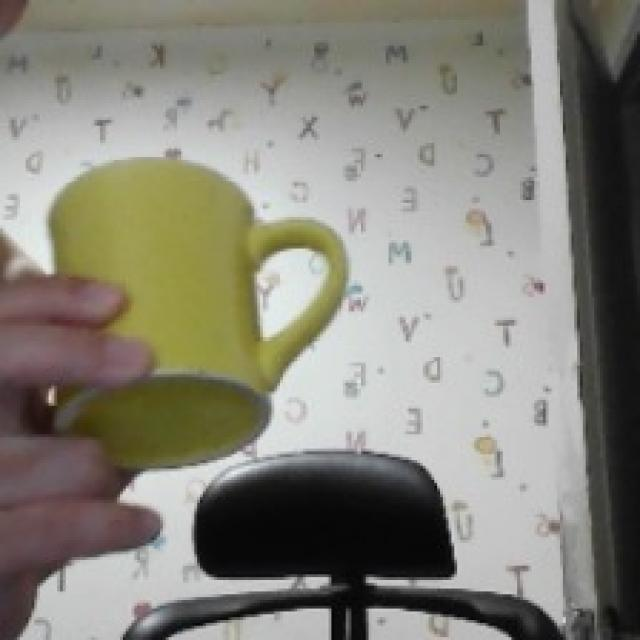cup: (51, 157, 346, 469)
